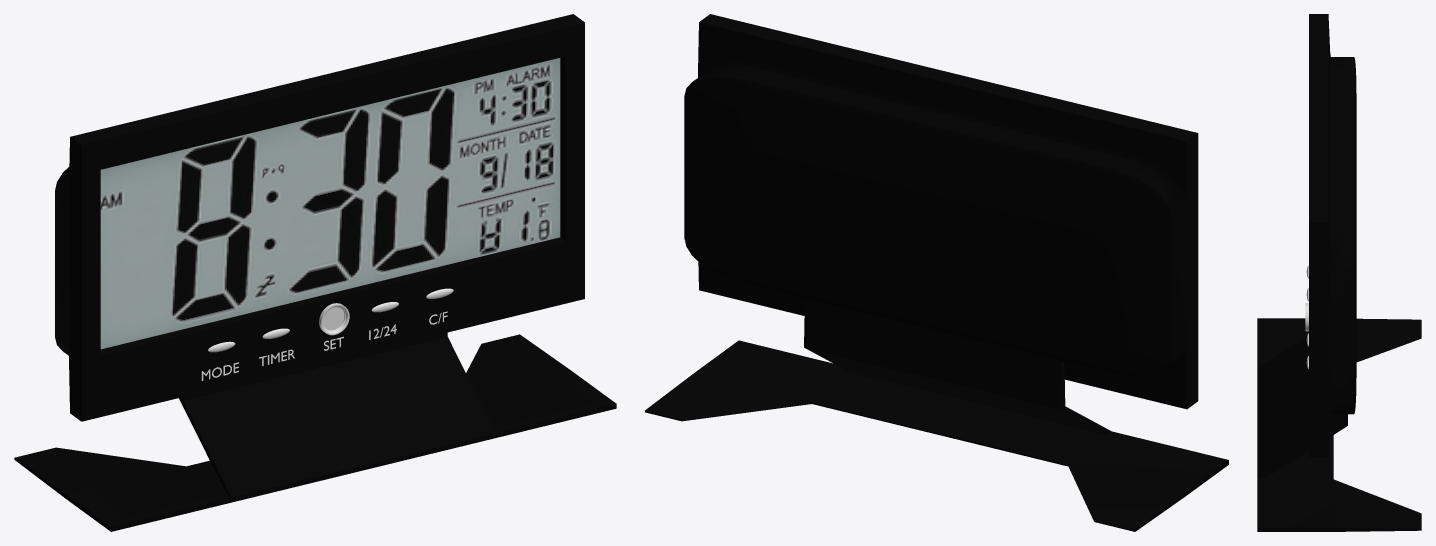
Rendered from modern_digital_table_clock___alarm_clock.glb.
The picture shows the model from 3 angles, left to right: view 1: azimuth 30°, elevation 25°; view 2: azimuth 150°, elevation 25°; view 3: azimuth 270°, elevation 25°; orthographic projection. The views are drawn at different scales.
Parts seen in each view (by area): view 1: Cube, Plane, Sphere, Cylinder; view 2: Cube, Plane; view 3: Cube, Plane.
Part boxes in pixels (<box>): Cube: <box>55,14,584,421</box>; Plane: <box>14,332,616,531</box>; Sphere: <box>208,288,453,352</box>; Cylinder: <box>319,303,349,335</box>; Cube: <box>684,14,1198,409</box>; Plane: <box>645,299,1228,531</box>; Cube: <box>1309,14,1356,457</box>; Plane: <box>1257,318,1421,531</box>.
Bounding box in the file's own units: 1.06 × 0.7301 × 0.3525.
6 materials, 2 textured.
